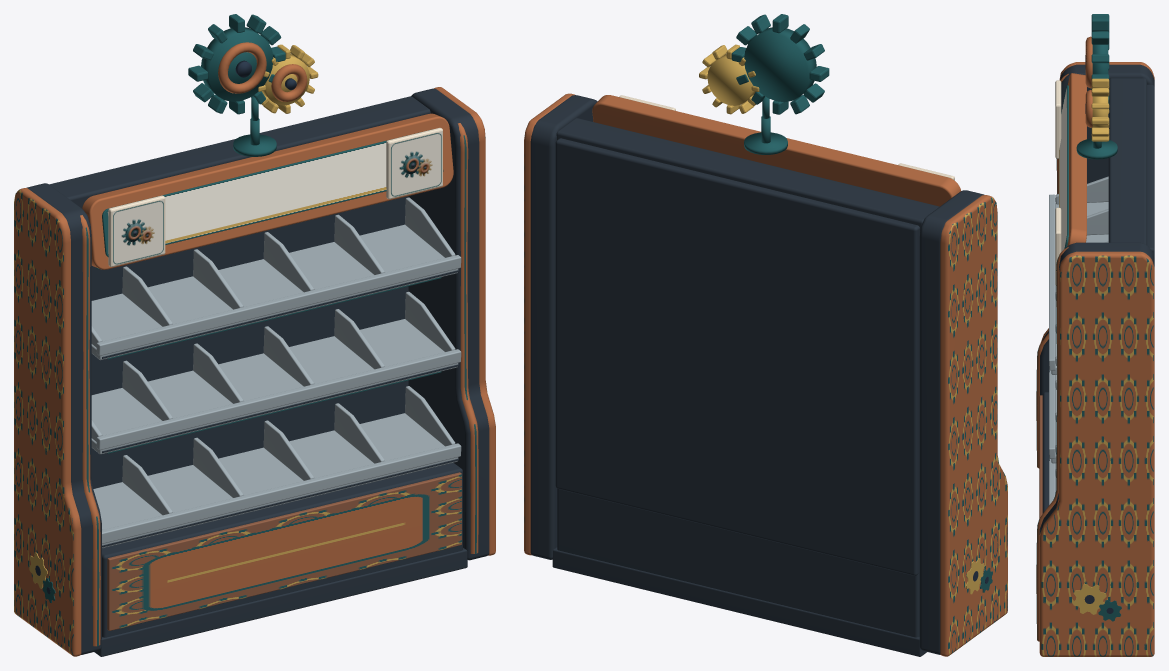
The model's file is TH_STEAMPUNK.fbx.
3 views of the same model, side by side, from view 1: azimuth 30°, elevation 25°; view 2: azimuth 150°, elevation 25°; view 3: azimuth 270°, elevation 25° (orthographic). The views are drawn at different scales.
Parts seen in each view (by area): view 1: BaseFrontInset, Left_PaintedPanel, BackPanel.001, Right_StructuralWall, Tray_02, Tray_01, Tray_03, HeaderFace, HeaderBorder, TopCrossRail, Left_StructuralWall, ClosedSolidBase (+36 smaller); view 2: BackPanel.001, Left_PaintedPanel, ClosedSolidBase, Right_StructuralWall, HeaderBorder, Left_StructuralWall, TopCrossRail, LowerPlinth, Gear hub, Right_PaintedPanel, Gear hub.001, TopperMount; view 3: Right_PaintedPanel, TopCrossRail, HeaderBorder, Left_StructuralWall, HeaderFace, BackPanel.001, FrontLip_01, RightHousing, Right_StructuralWall, ClosedSolidBase, Relief.006, TopperMount (+18 smaller).
Part boxes in pixels (x1=…): BaseFrontInset: x1=107, y1=472, x2=461, y2=630; Left_PaintedPanel: x1=14, y1=188, x2=81, y2=656; BackPanel.001: x1=91, y1=196, x2=408, y2=488; Right_StructuralWall: x1=408, y1=88, x2=489, y2=560; Tray_02: x1=91, y1=319, x2=458, y2=454; Tray_01: x1=91, y1=224, x2=458, y2=360; Tray_03: x1=93, y1=413, x2=458, y2=548; HeaderFace: x1=102, y1=129, x2=443, y2=257; HeaderBorder: x1=82, y1=113, x2=453, y2=269; TopCrossRail: x1=49, y1=96, x2=430, y2=208; Left_StructuralWall: x1=26, y1=183, x2=101, y2=654; ClosedSolidBase: x1=102, y1=462, x2=462, y2=637; BackPanel.001: x1=555, y1=138, x2=919, y2=575; Left_PaintedPanel: x1=940, y1=195, x2=1007, y2=656; ClosedSolidBase: x1=557, y1=488, x2=919, y2=637; Right_StructuralWall: x1=530, y1=95, x2=597, y2=559; HeaderBorder: x1=592, y1=95, x2=960, y2=206; Left_StructuralWall: x1=919, y1=190, x2=984, y2=654; TopCrossRail: x1=556, y1=118, x2=939, y2=232; LowerPlinth: x1=552, y1=547, x2=926, y2=656; Gear hub: x1=744, y1=27, x2=816, y2=102; Right_PaintedPanel: x1=524, y1=93, x2=574, y2=555; Gear hub.001: x1=707, y1=54, x2=755, y2=105; TopperMount: x1=744, y1=132, x2=787, y2=154; Right_PaintedPanel: x1=1039, y1=251, x2=1154, y2=656; TopCrossRail: x1=1108, y1=78, x2=1146, y2=244; HeaderBorder: x1=1067, y1=73, x2=1086, y2=245; Left_StructuralWall: x1=1040, y1=64, x2=1154, y2=395; HeaderFace: x1=1059, y1=85, x2=1068, y2=251; BackPanel.001: x1=1147, y1=84, x2=1154, y2=257; FrontLip_01: x1=1049, y1=194, x2=1055, y2=370; RightHousing: x1=1036, y1=247, x2=1068, y2=641; Right_StructuralWall: x1=1039, y1=242, x2=1154, y2=534; ClosedSolidBase: x1=1042, y1=392, x2=1048, y2=513; Relief.006: x1=1072, y1=584, x2=1106, y2=614; TopperMount: x1=1076, y1=138, x2=1117, y2=159.
Bounding box in the file's own units: 3.62 × 4.68 × 0.9273.
